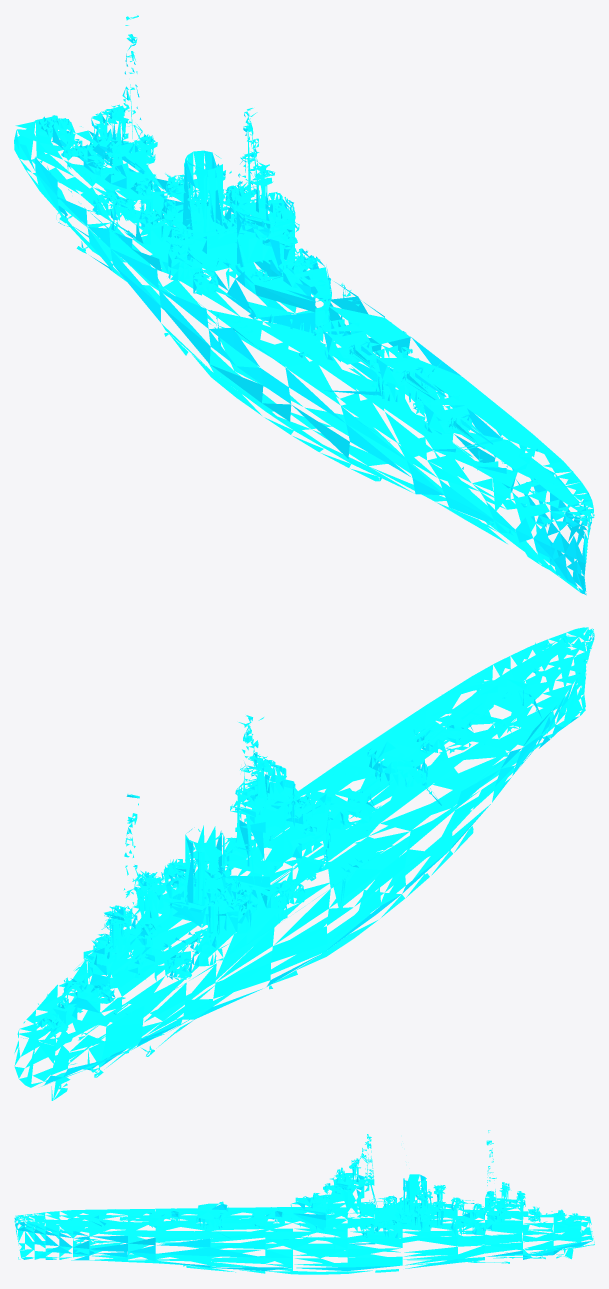
File: Defence.glb
The picture shows the model from 3 angles, top to bottom: view 1: azimuth 30°, elevation 25°; view 2: azimuth 150°, elevation 25°; view 3: azimuth 270°, elevation 25°; orthographic projection. The views are drawn at different scales.
Size of the model in its own units: 1.95 by 3.6 by 14.7.
